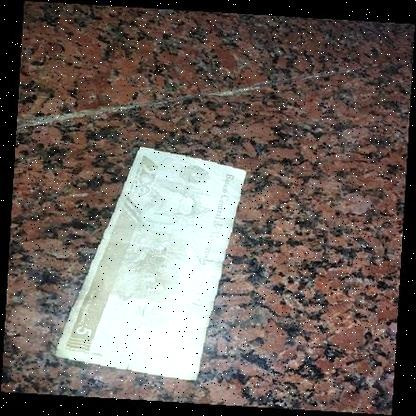five-back-vef: (54, 145, 247, 381)
